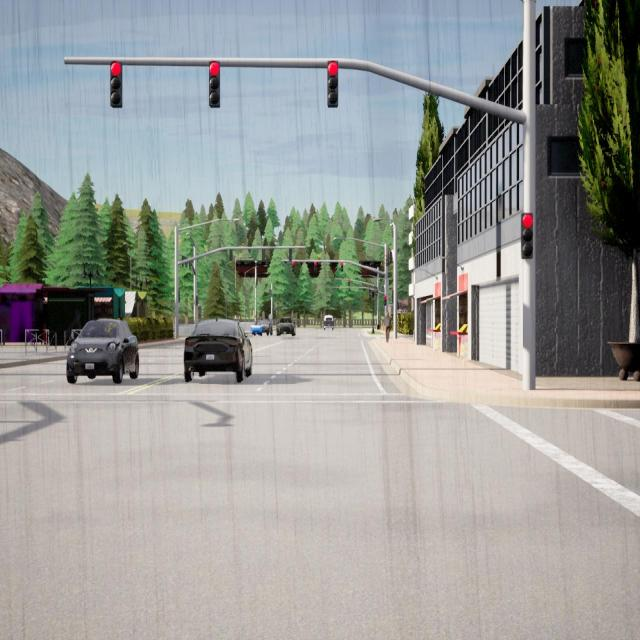Pedestrian: (384, 312, 392, 343)
Traffic_Signs: (268, 314, 272, 319)
Vehicle: (66, 320, 140, 384), (184, 318, 253, 382), (276, 317, 296, 336), (257, 318, 272, 336), (251, 321, 262, 336), (324, 315, 334, 331)
traffic_light: (110, 61, 122, 108), (521, 212, 533, 259), (209, 61, 220, 108), (327, 61, 338, 107), (262, 248, 265, 260), (289, 248, 292, 260), (292, 262, 295, 272), (386, 256, 389, 266), (185, 257, 188, 267), (314, 262, 317, 271), (384, 296, 387, 305), (230, 250, 232, 262), (182, 256, 184, 267), (196, 296, 198, 306), (341, 262, 343, 271), (390, 252, 392, 261), (392, 290, 393, 304), (189, 261, 191, 268), (256, 278, 258, 285), (349, 288, 351, 294), (348, 280, 350, 286), (363, 288, 365, 294), (179, 291, 180, 302), (337, 288, 339, 293), (270, 290, 271, 296)
